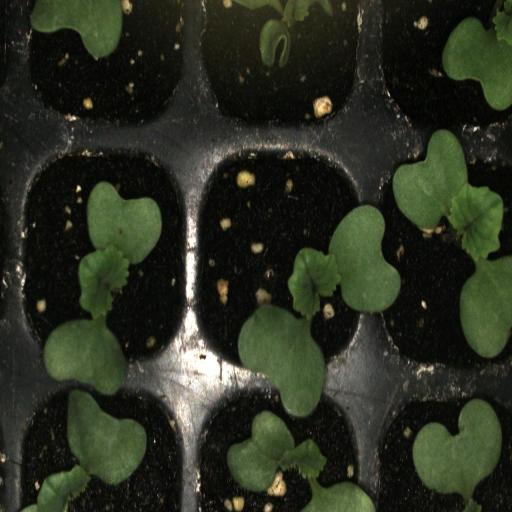seedling: (189, 132, 372, 382), (16, 136, 191, 364), (374, 130, 512, 386), (190, 366, 368, 512), (15, 370, 187, 512)
